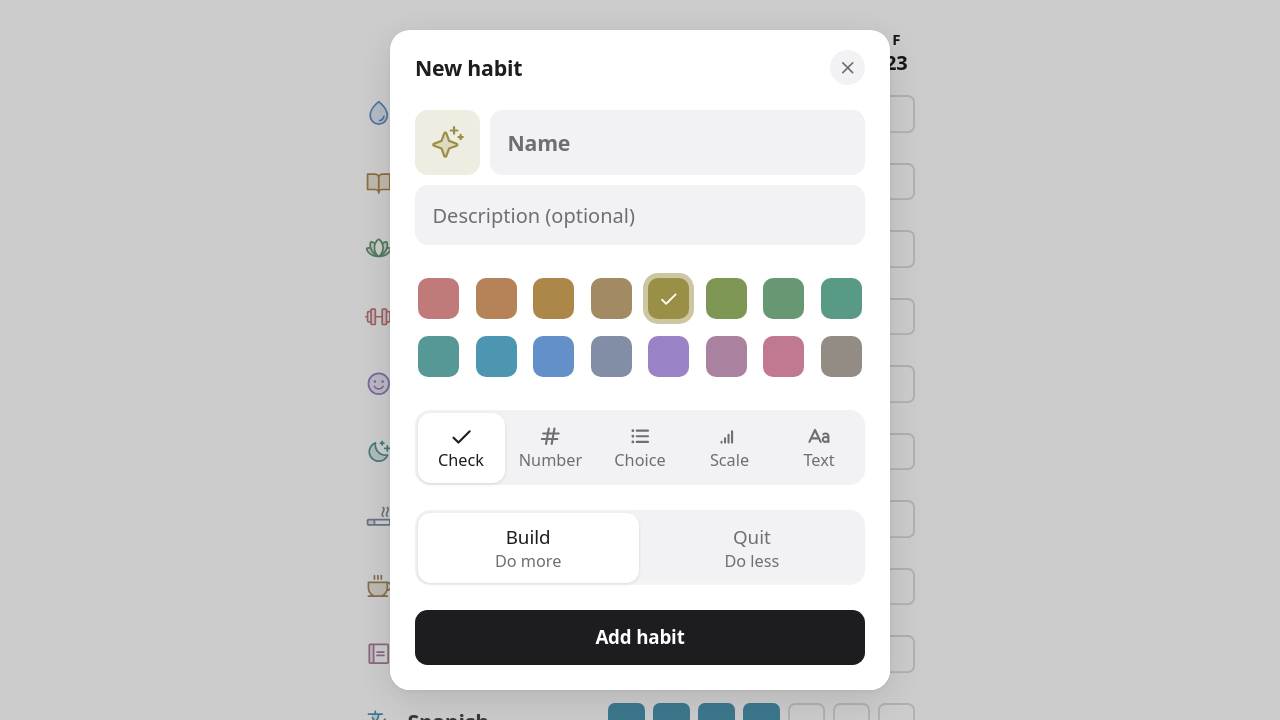
validation › a habit without a name is not added, and the sheet says why
Click the button "Add habit" at coordinates (640, 638), box x1=415 y1=610 x2=865 y2=665
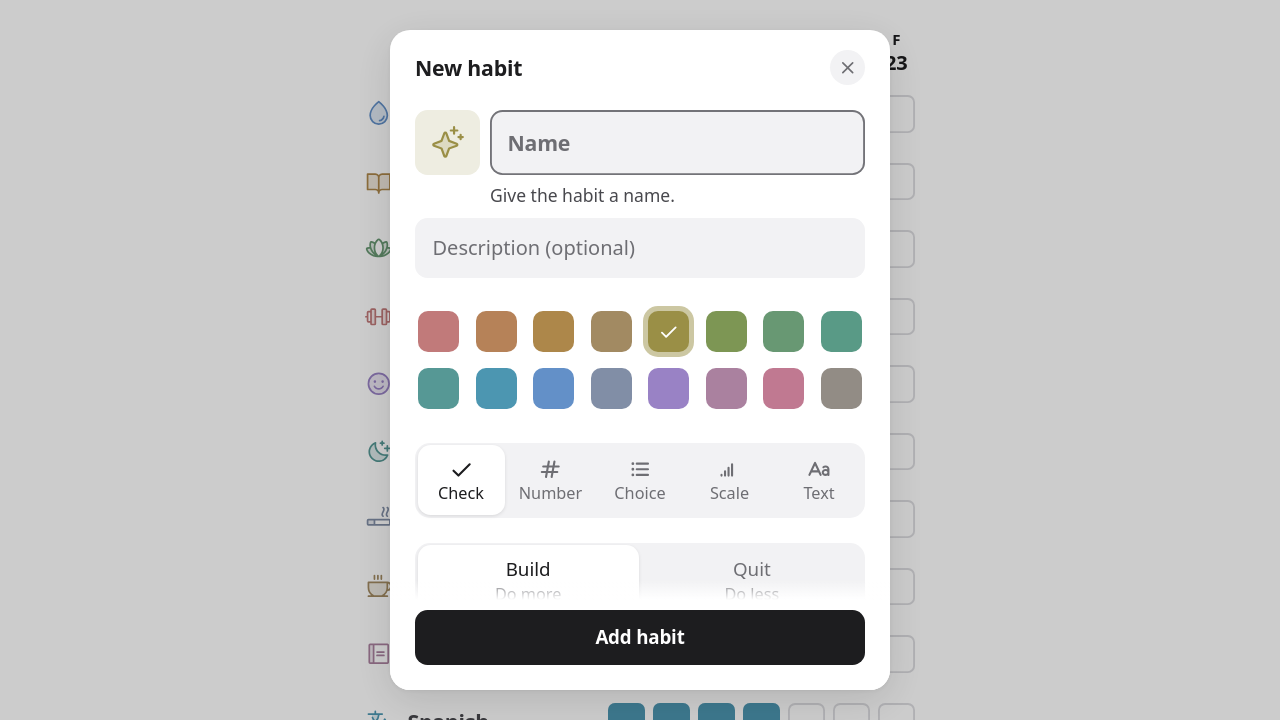
expect the text "Give the habit a name." is shown: met, box x1=490 y1=182 x2=675 y2=206
